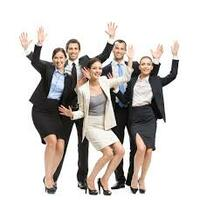person: (96, 25, 136, 70), (132, 54, 168, 91), (45, 36, 70, 88), (80, 56, 111, 92), (62, 28, 84, 69)
